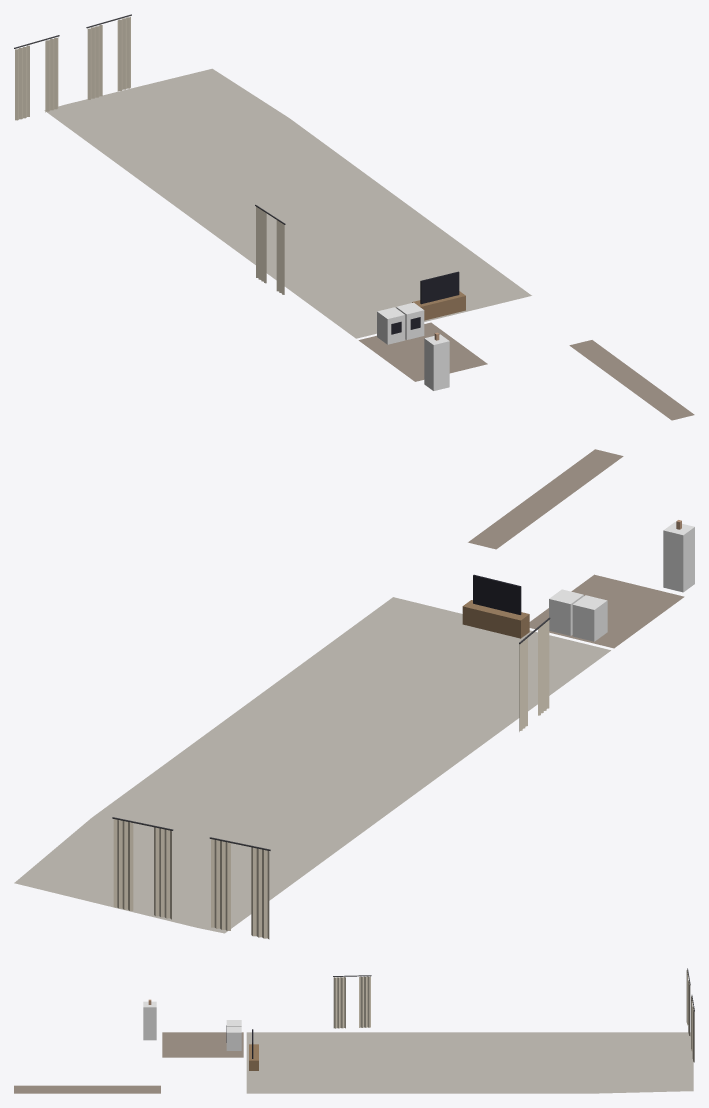
File: fine-s0.glb
3 views of the same model, one above another, from view 1: azimuth 30°, elevation 25°; view 2: azimuth 150°, elevation 25°; view 3: azimuth 270°, elevation 25° (orthographic). The views are drawn at different scales.
Visible parts, largest first — view 1: soft-s0, tv-console.000, water-heater.000, washer.000, washer.001; view 2: soft-s0, tv-console.000, water-heater.000, washer.000, washer.001; view 3: soft-s0, water-heater.000, washer.001, tv-console.000.
Part boxes in pixels (box(x1,y1,x2,y2)): soft-s0: box(14, 14, 694, 420); tv-console.000: box(412, 271, 465, 320); water-heater.000: box(424, 332, 449, 390); washer.000: box(377, 307, 405, 344); washer.001: box(396, 302, 424, 339); soft-s0: box(14, 449, 684, 939); tv-console.000: box(462, 574, 529, 638); water-heater.000: box(663, 520, 694, 592); washer.000: box(572, 595, 607, 641); washer.001: box(549, 589, 583, 635); soft-s0: box(14, 968, 694, 1093); water-heater.000: box(143, 999, 156, 1040); washer.001: box(226, 1026, 241, 1050); tv-console.000: box(249, 1029, 258, 1070).
Size of the model in its own units: 7.13 by 2.4 by 28.09.
